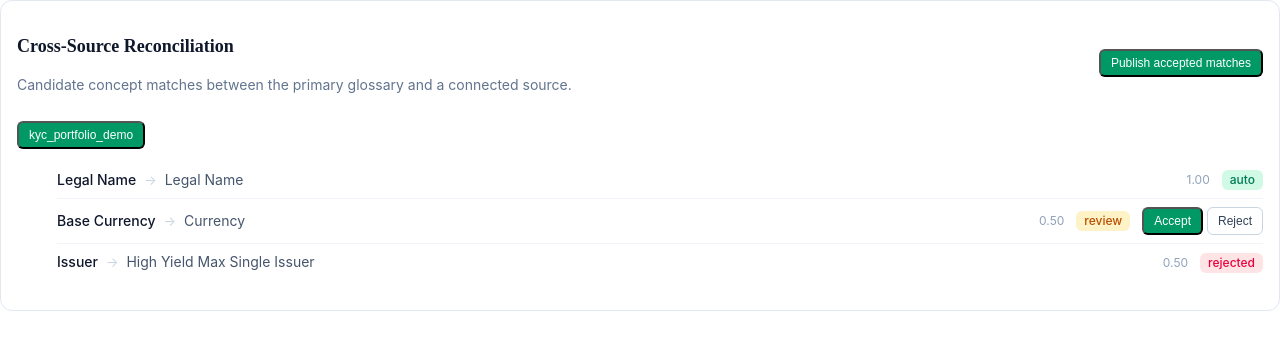
publishing shows an honest 'requires GraphDB' message when unavailable
Click the button "Publish accepted matches" at (1181, 63), box [1099,49,1263,77]
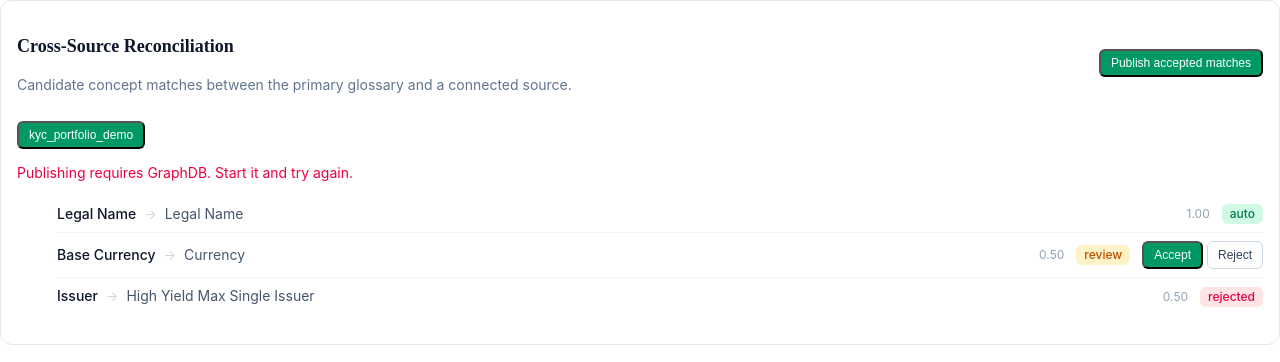
Expected: the text "Publishing requires GraphDB. Start it and try again." is shown, [17,164,353,181]
